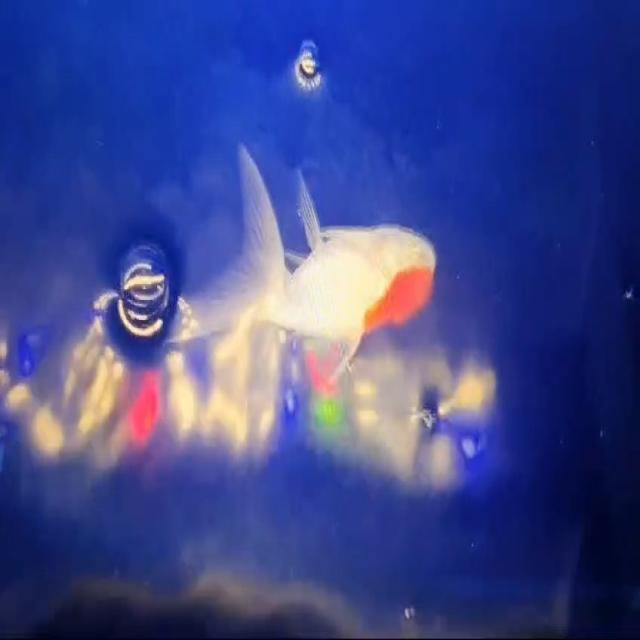fish: (188, 139, 442, 382)
